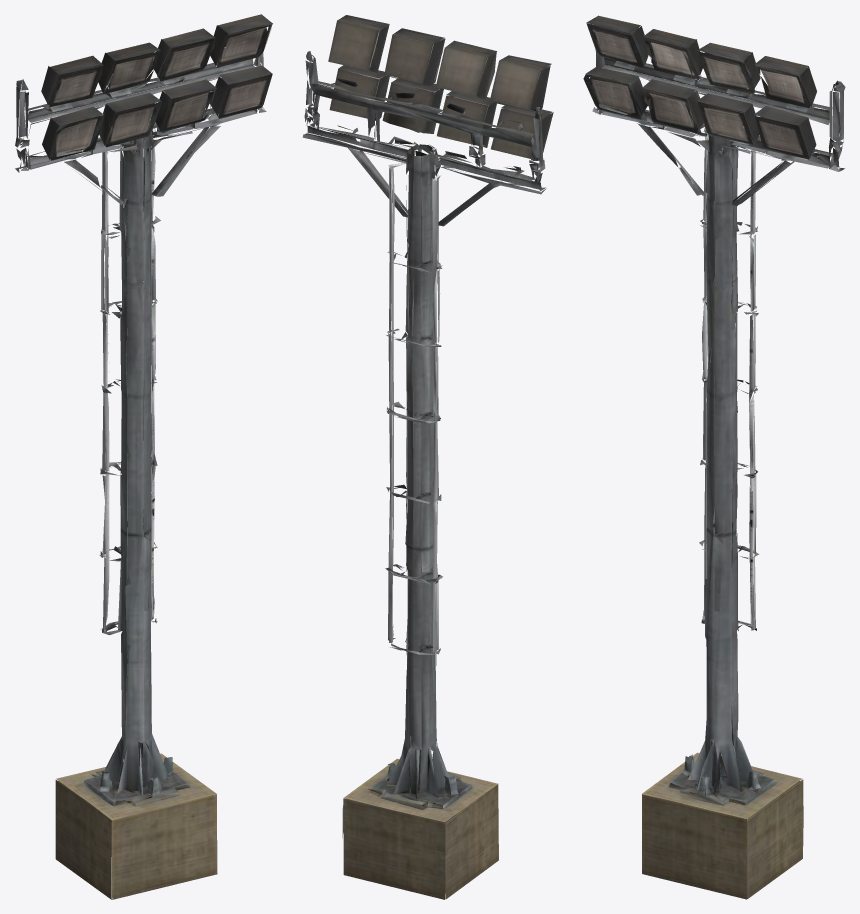
Rendered from kueste_flutlicht.glb.
3 views of the same model, side by side, from view 1: azimuth 30°, elevation 25°; view 2: azimuth 150°, elevation 25°; view 3: azimuth 330°, elevation 25° (orthographic). The views are drawn at different scales.
Parts seen in each view (by area): view 1: Prop; view 2: Prop; view 3: Prop.
Boxes of the visible parts, <box> form: Prop: <box>15,14,272,899</box>; Prop: <box>302,15,553,899</box>; Prop: <box>583,15,845,899</box>.
Size of the model in its own units: 0.3125 by 1 by 0.128.
1 material, 1 textured.
